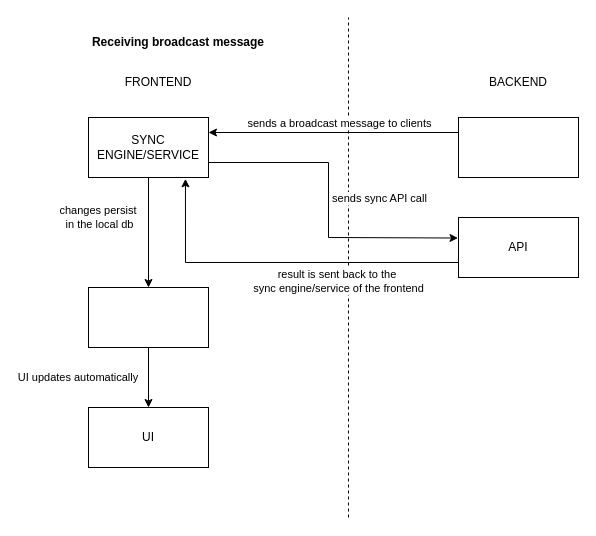
The diagram is 596 pixels wide and 536 high, and some of its shapes have lost their labels. The centre of each missing label's shape, as x and y in pixels:
"BROADCAST SERVICE" belongs at [518,147].
"LOCAL DB" belongs at [148,317].
